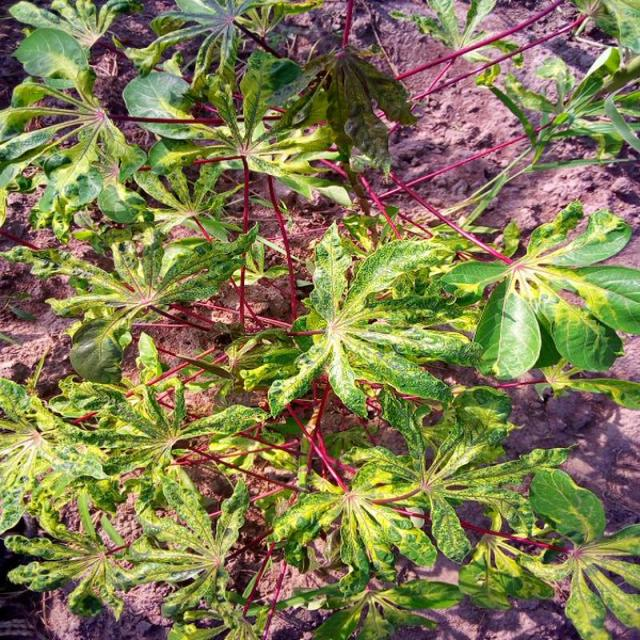cassava leaf: (265, 220, 481, 420), (472, 272, 542, 381)
